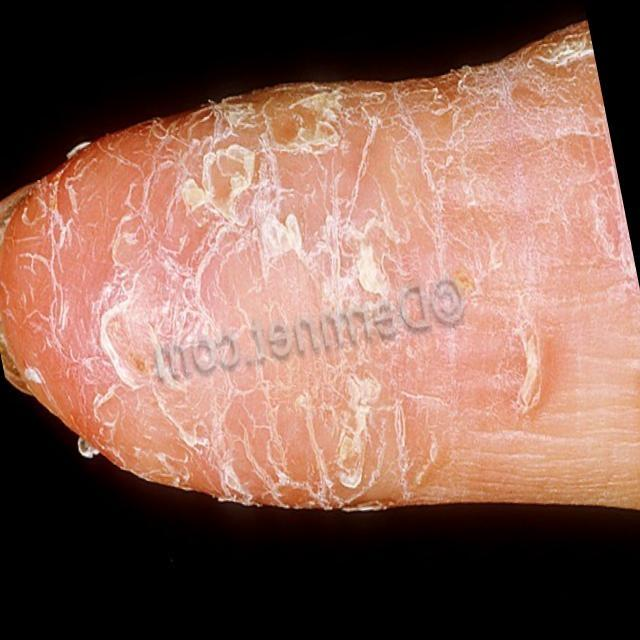Eczema: (0, 39, 587, 505)
